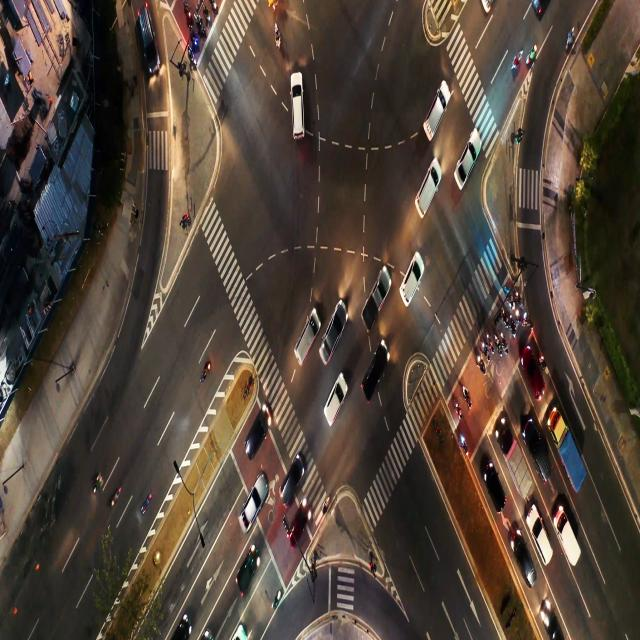motorcycle: (528, 40, 540, 64), (564, 26, 574, 51), (203, 357, 213, 377), (478, 355, 486, 377), (514, 54, 523, 70), (188, 52, 197, 65), (490, 328, 494, 356), (274, 590, 280, 607), (323, 499, 329, 515), (501, 311, 507, 326), (497, 338, 501, 359), (192, 34, 200, 44), (187, 10, 191, 30), (455, 400, 460, 416), (528, 312, 532, 331), (467, 386, 470, 408), (480, 345, 488, 352), (503, 343, 508, 353), (512, 324, 517, 334), (207, 14, 211, 26), (277, 30, 280, 44), (464, 439, 466, 453), (521, 314, 523, 325), (543, 358, 544, 368)
other: (565, 514, 576, 556), (559, 444, 576, 468), (511, 446, 522, 478)
truck: (369, 278, 385, 316), (288, 97, 308, 127), (327, 316, 340, 358), (464, 142, 477, 176), (367, 362, 384, 386), (298, 326, 312, 355), (142, 28, 154, 56), (322, 400, 340, 418), (248, 424, 262, 447), (538, 525, 548, 555), (420, 184, 430, 213), (246, 495, 257, 521), (405, 268, 419, 288), (432, 98, 442, 123), (520, 554, 529, 580), (490, 479, 498, 508), (292, 517, 307, 532), (289, 472, 298, 494), (534, 438, 540, 470), (529, 370, 537, 391), (241, 564, 252, 575)
